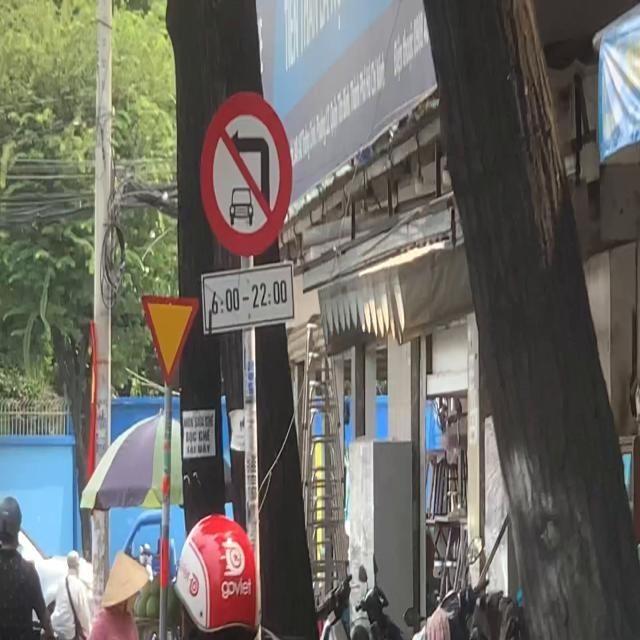bien_cam: (200, 94, 292, 257), (140, 294, 202, 388)
